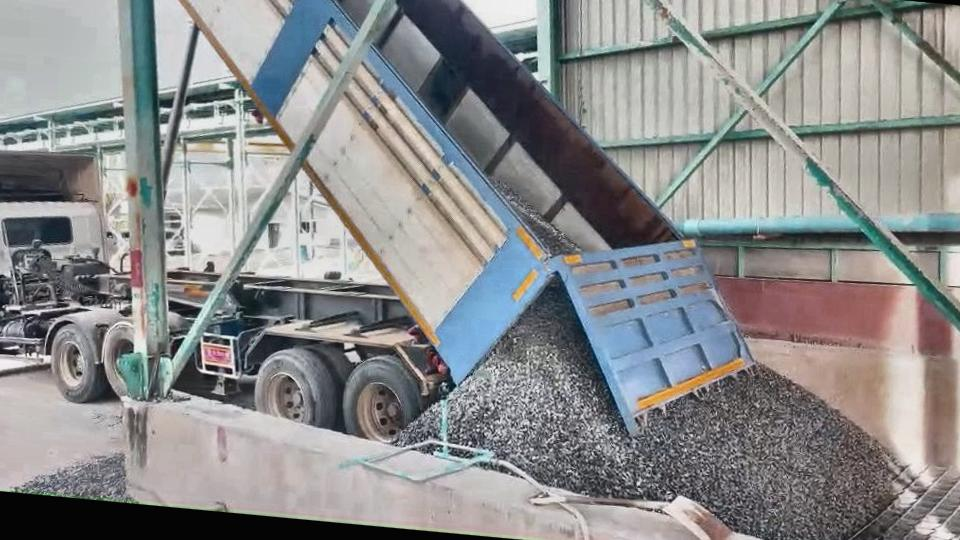gravel: (450, 283, 901, 540), (492, 180, 578, 254), (13, 454, 133, 501), (399, 404, 439, 444)
